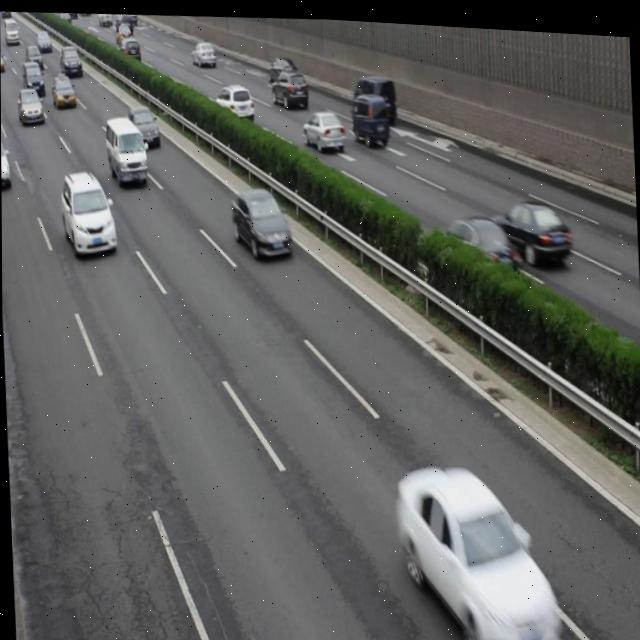car: (394, 453, 557, 640), (436, 206, 518, 281), (487, 190, 570, 261), (59, 167, 116, 257), (230, 182, 291, 258), (349, 86, 388, 143), (302, 107, 344, 149), (269, 64, 308, 106), (214, 80, 253, 120), (126, 101, 160, 144), (17, 86, 44, 124), (49, 71, 75, 108), (265, 52, 295, 82), (58, 42, 82, 77), (22, 60, 45, 96), (190, 38, 215, 67), (118, 35, 141, 62), (25, 43, 44, 72), (1, 132, 11, 187), (114, 19, 132, 44), (35, 30, 52, 51), (0, 46, 4, 71)
truck: (103, 112, 148, 186), (350, 69, 396, 117)
